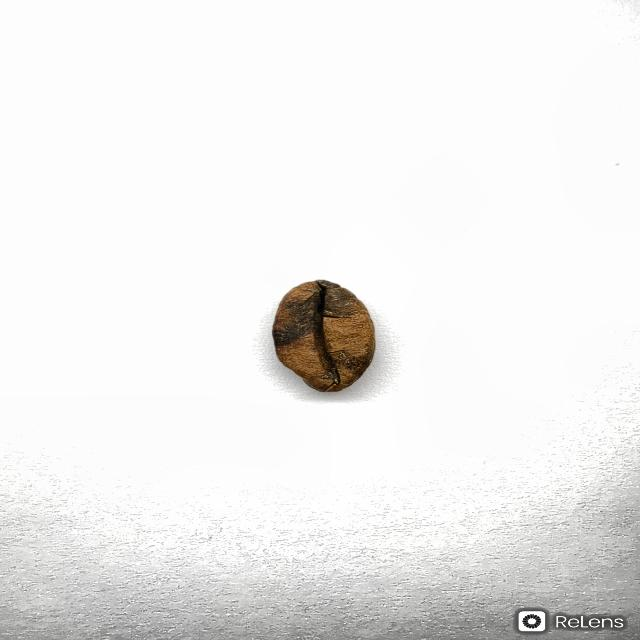Scorched: (270, 278, 378, 393)
